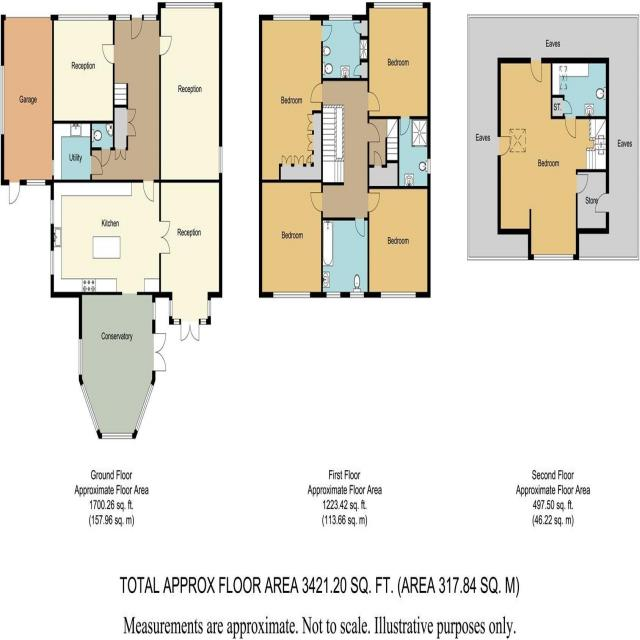DOOR: (152, 332, 167, 372), (180, 318, 200, 342), (159, 220, 171, 254), (131, 14, 143, 40), (126, 108, 136, 137), (102, 43, 115, 65), (310, 191, 323, 212), (367, 192, 380, 213), (367, 122, 380, 143), (159, 35, 172, 56), (143, 179, 154, 202), (355, 217, 365, 238), (374, 150, 382, 168)
ROOM: (50, 179, 171, 298), (259, 14, 333, 183), (159, 1, 223, 183), (159, 179, 223, 342), (366, 2, 431, 136), (258, 178, 323, 298), (367, 186, 431, 298), (52, 15, 115, 124)
WINDOW: (374, 2, 423, 8), (380, 291, 416, 298), (273, 14, 310, 20), (273, 292, 310, 297), (328, 14, 352, 20), (326, 292, 341, 298), (350, 292, 364, 298), (428, 158, 430, 175)
